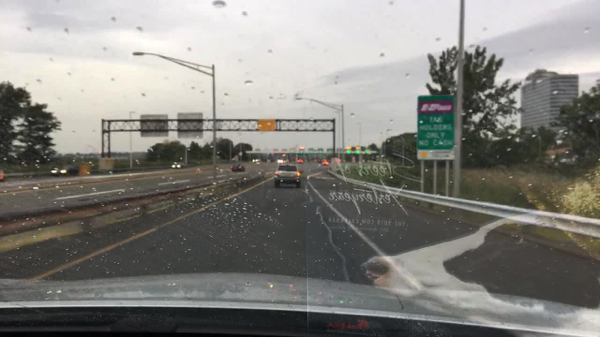car: (273, 163, 301, 188), (51, 165, 92, 176), (228, 162, 244, 172), (0, 166, 6, 181), (171, 162, 184, 168), (321, 160, 330, 166), (254, 161, 261, 165)
traffic light: (308, 148, 316, 155), (354, 149, 362, 156), (317, 148, 324, 155), (366, 149, 372, 156), (327, 148, 333, 154), (290, 149, 297, 154), (299, 149, 304, 156), (345, 149, 350, 155)
traffic sign: (415, 95, 456, 161), (176, 111, 204, 139), (140, 114, 170, 137), (256, 119, 276, 131), (237, 150, 244, 157)
